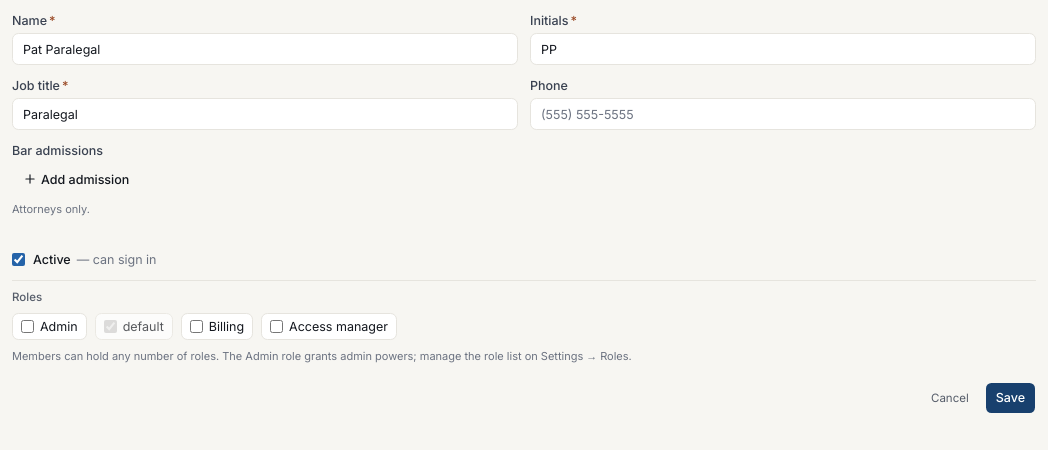
MemberEditForm › shows phone / bar number field errors and keeps the edits
This screenshot has width=1048, height=450.
Type "555-0100 ext 12" into the field labelled "Phone" at (783, 114), box [530,98,1036,130]
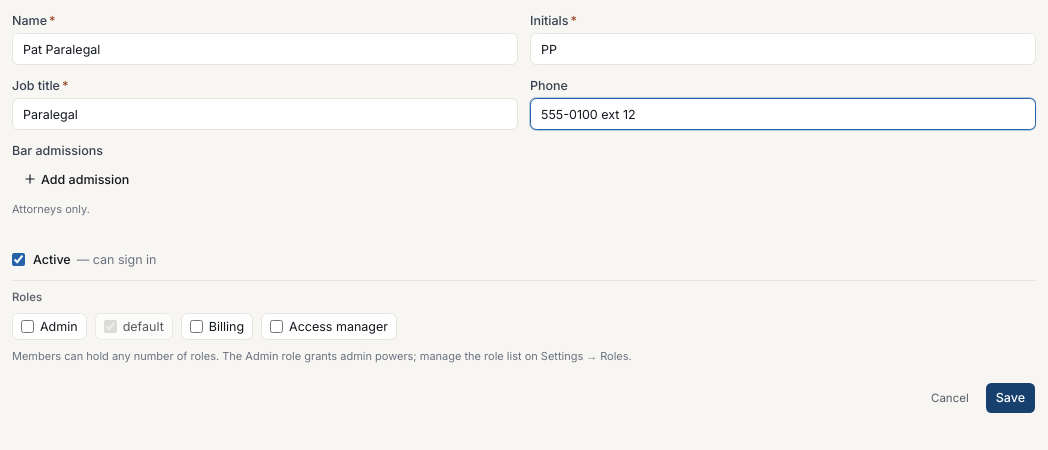
Click the button "Save" at (1010, 398), box [985,382,1036,414]
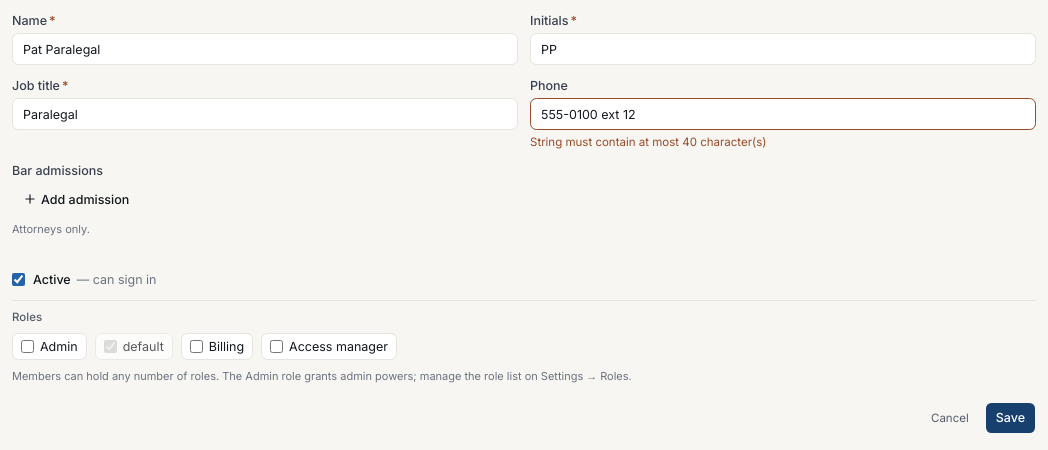
Result: the text "String must contain at most 40 character(s)" is shown at [530,135,766,149]
